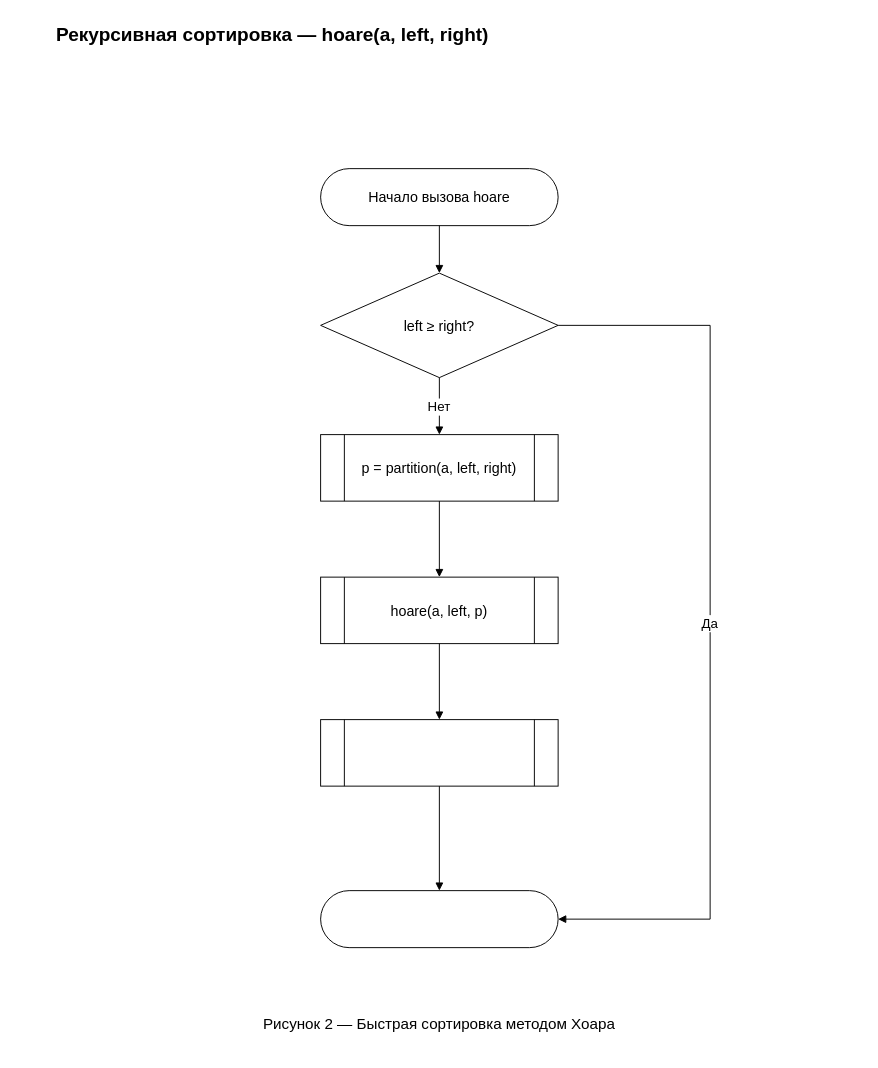
This 878x1068 diagram has some shape labels left out. The shapes that lost their labels are listed below. From the top down, each one's centre as x and y in pixels, then its label:
At pixel 439 752: "hoare(a, p + 1, right)".
At pixel 439 919: "Возврат из текущего вызова".
